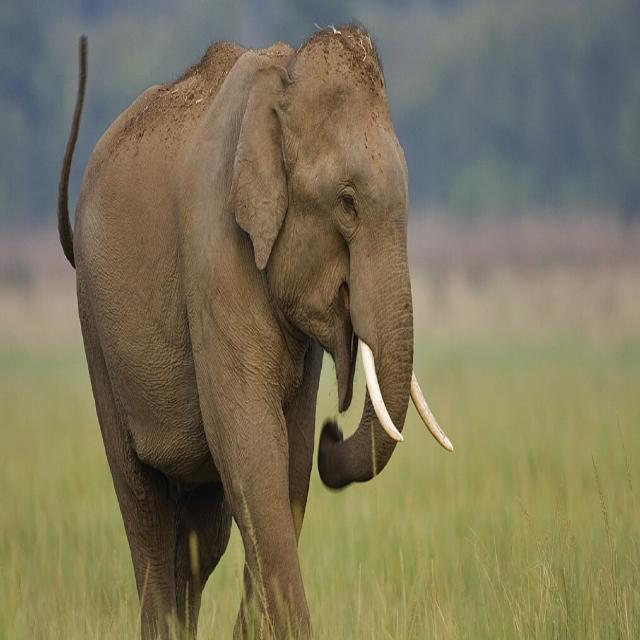Elephant: (54, 21, 455, 640)
